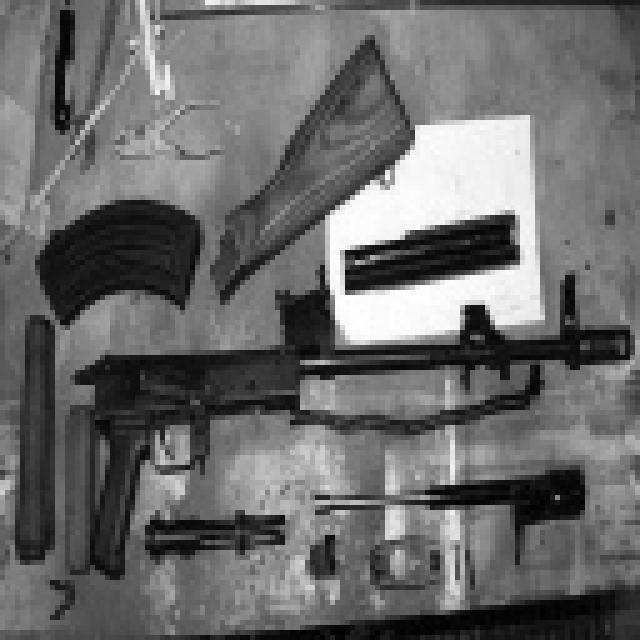Rifle: (72, 326, 514, 585)
